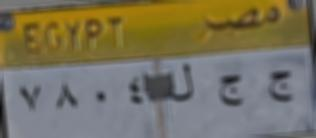0: (93, 82, 112, 110)
4: (124, 72, 144, 112)
7: (16, 79, 44, 116)
8: (53, 84, 80, 113)
jeem: (210, 70, 245, 109), (265, 69, 298, 105)
laam: (167, 59, 196, 109)
